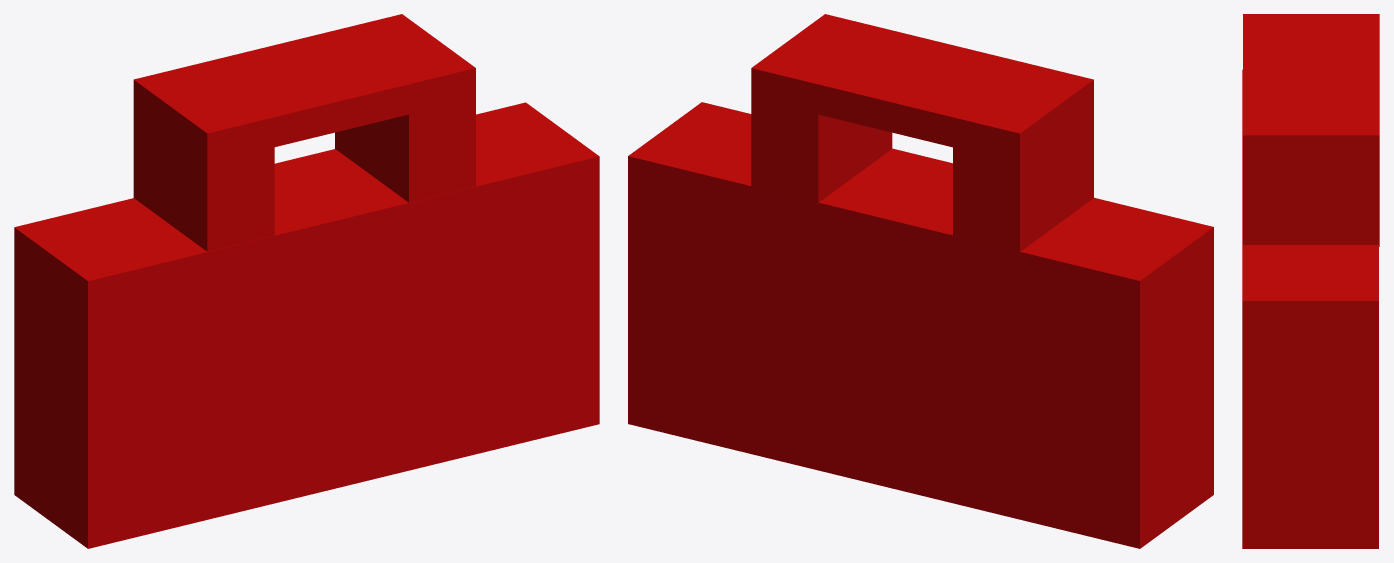
Rendered from medkit.obj.
The picture shows the model from 3 angles, left to right: view 1: azimuth 30°, elevation 25°; view 2: azimuth 150°, elevation 25°; view 3: azimuth 270°, elevation 25°; orthographic projection. The views are drawn at different scales.
Visible parts, largest first — view 1: Cube; view 2: Cube; view 3: Cube.
Boxes of the visible parts, bbox=[...] form: Cube: bbox=[14, 14, 599, 548]; Cube: bbox=[628, 14, 1213, 548]; Cube: bbox=[1242, 14, 1379, 548].
Bounding box in the file's own units: 4 × 2.88 × 1.
